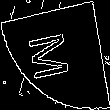M_E: (29, 27, 81, 83)
